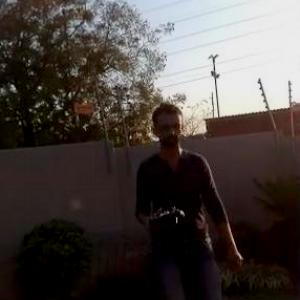follow: (129, 95, 250, 299)
